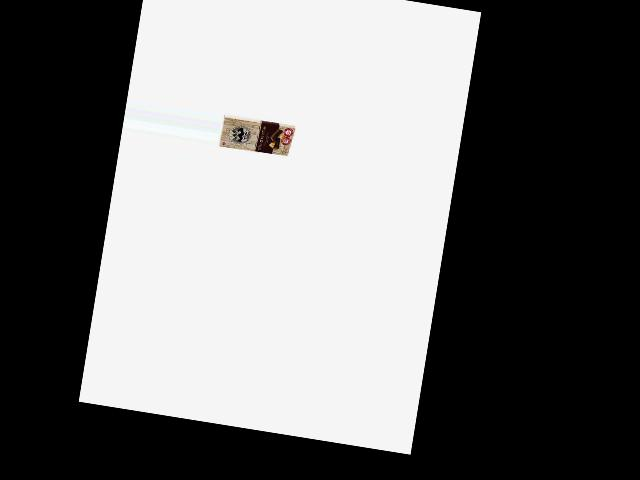chocolate: (218, 108, 297, 159)
